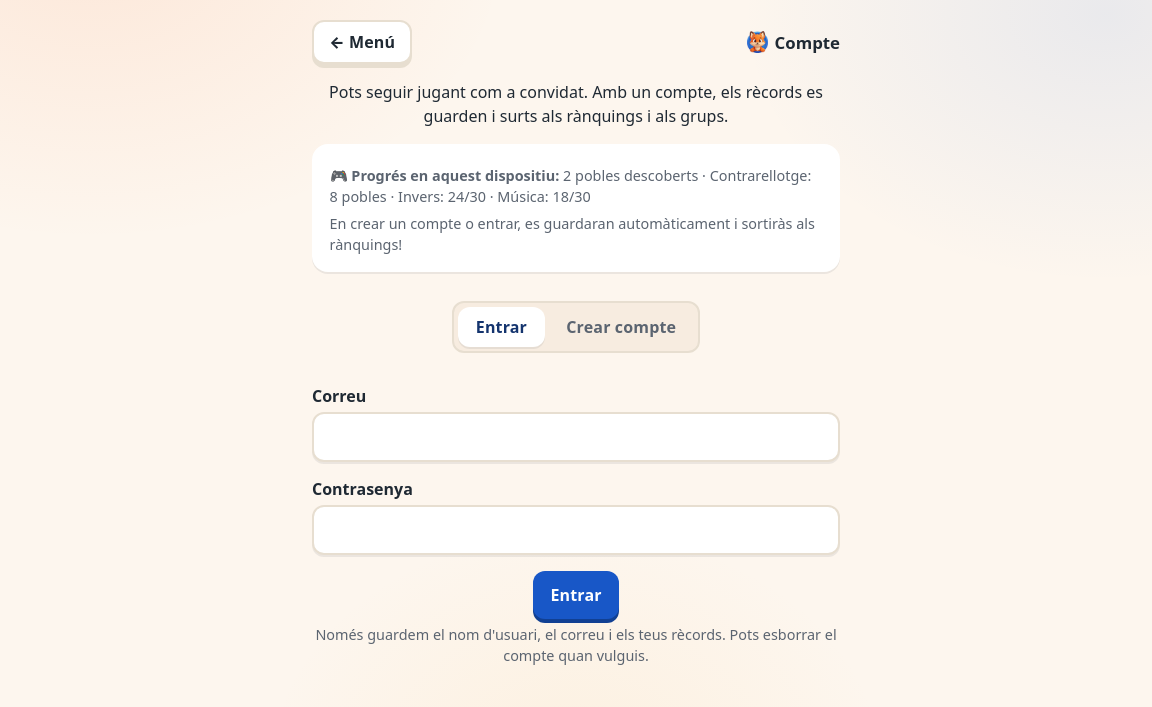
it: AccountScreen component › com a convidat (sense sessió) › permet crear compte amb validacions correctes
This screenshot has width=1152, height=707.
Canviar a pestanya de Crear compte
Click the tab "Crear compte" at (621, 327), box [549,307,694,347]
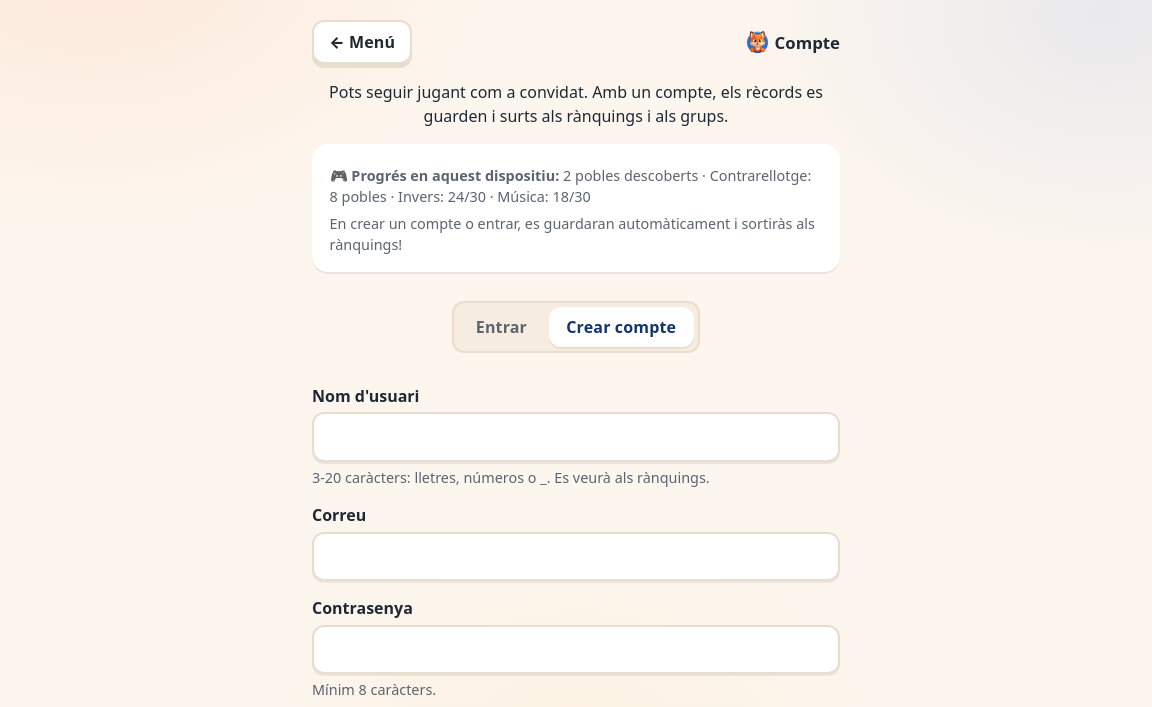
Type "nou_usuari" into the field labelled "Nom d'usuari" at (576, 437), box [312,412,840,462]
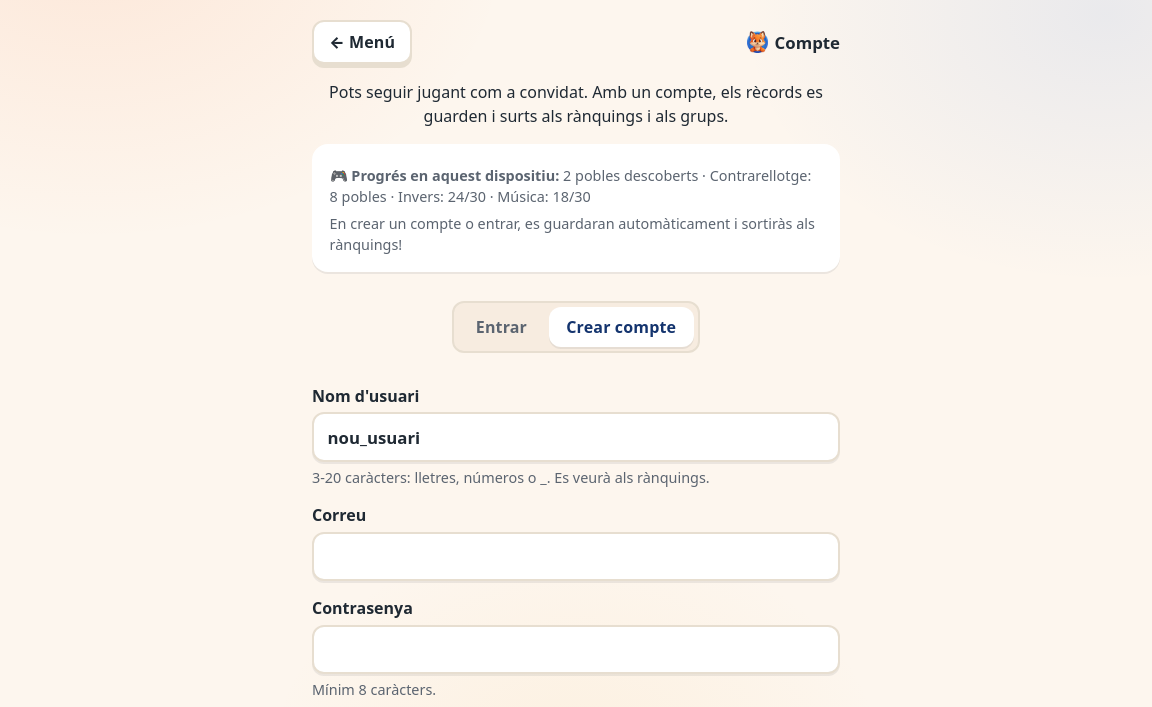
Type "nou@example.cat" into the field labelled "Correu" at (576, 556), box [312,532,840,581]
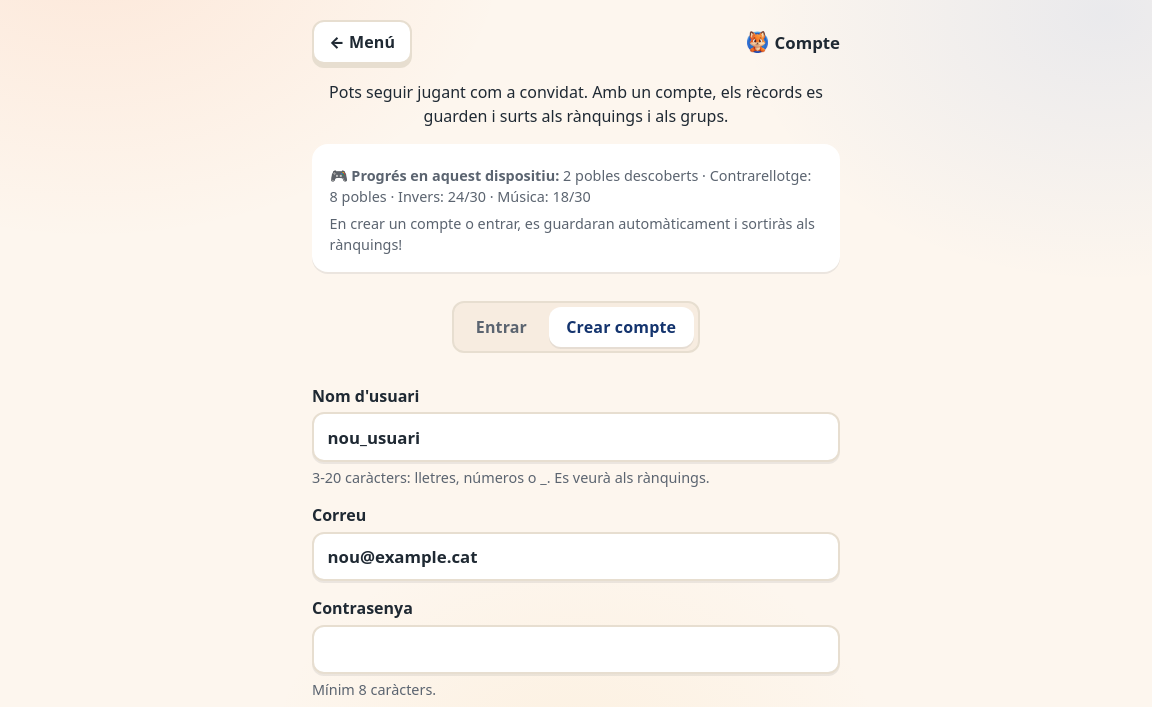
Type "supersecret123" into the password field labelled "Contrasenya" at (576, 650), box [312,625,840,674]
(page scrolled)
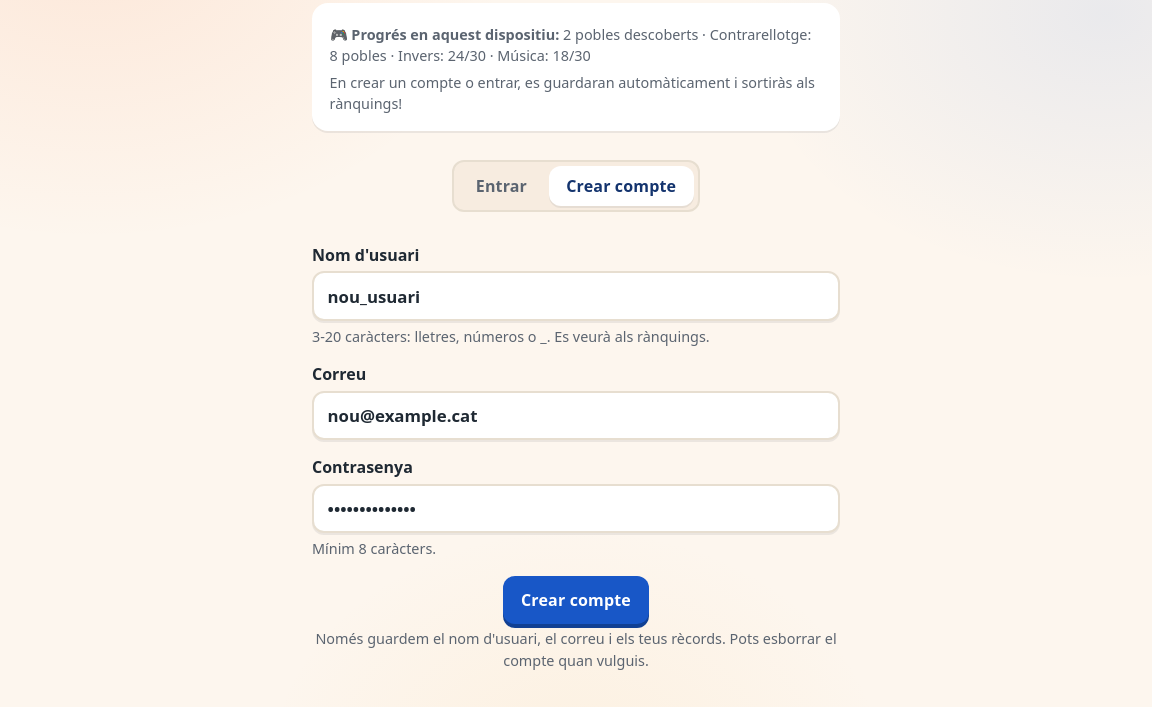
Click the button "Crear compte" at (576, 600), box [503,576,649,624]
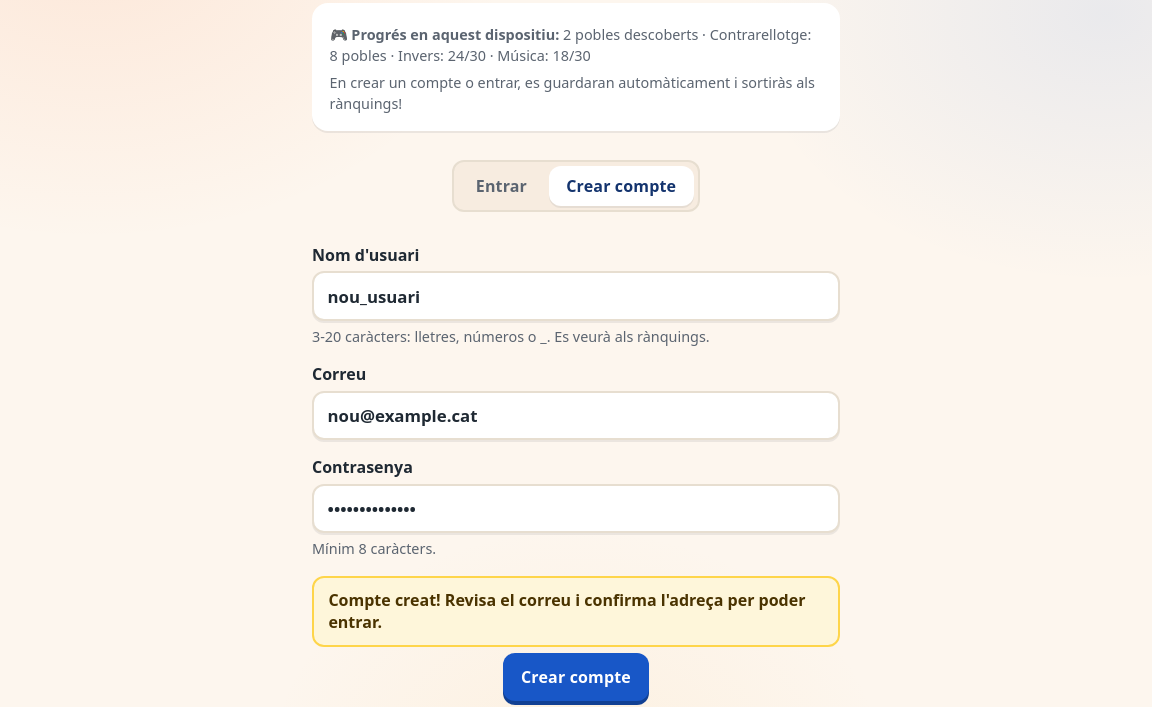
Expected: the message shows "Compte creat!", [328,589,806,633]
